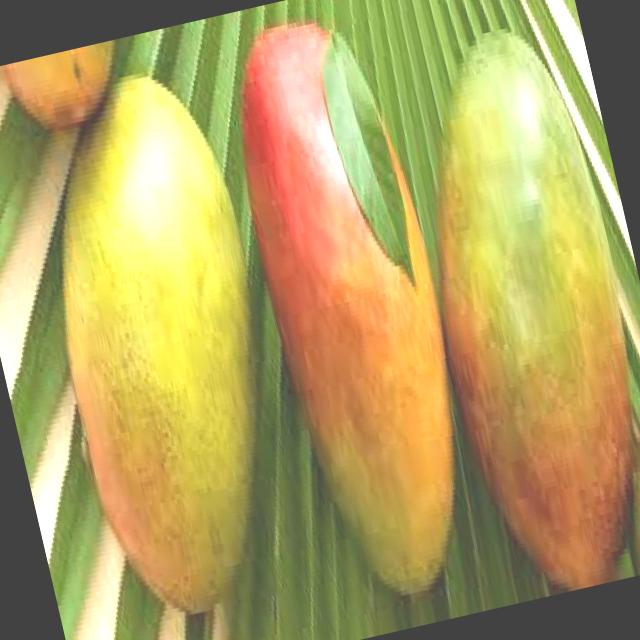Mango: (5, 54, 320, 629), (209, 1, 499, 609), (375, 11, 640, 601), (0, 40, 127, 144), (598, 375, 640, 574)
